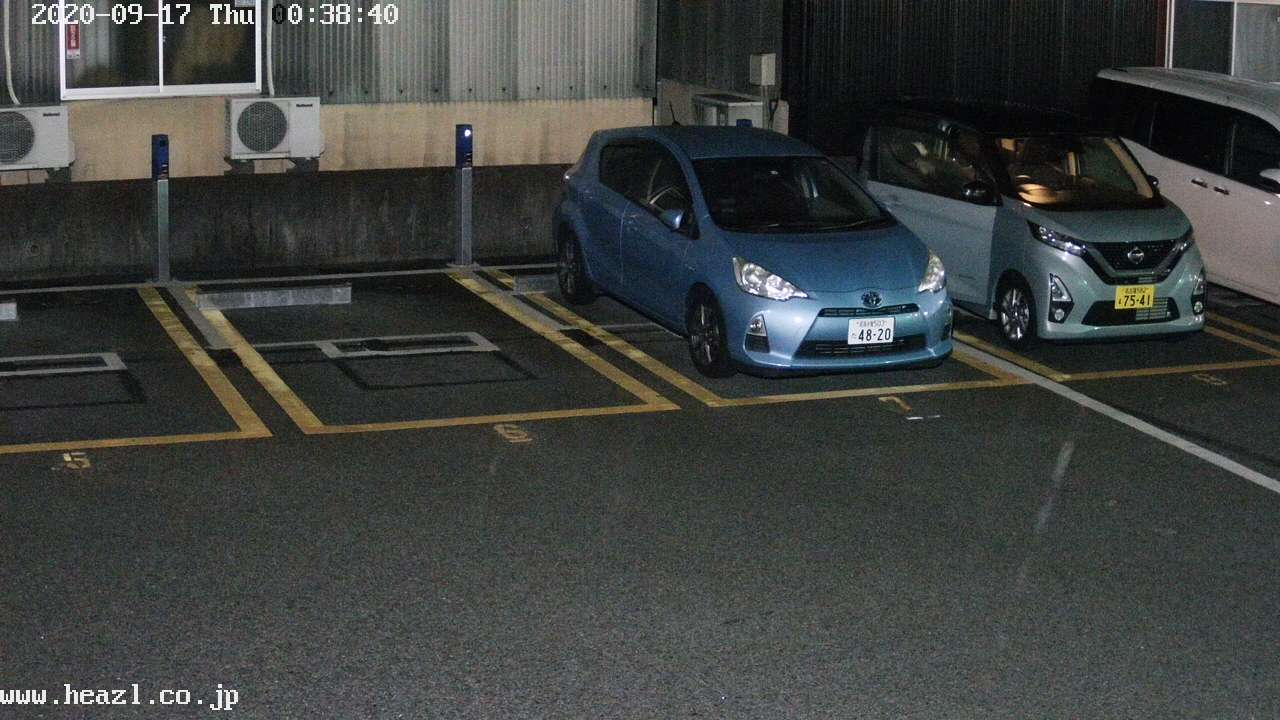number_plate: (847, 317, 898, 343), (1115, 285, 1154, 310)
